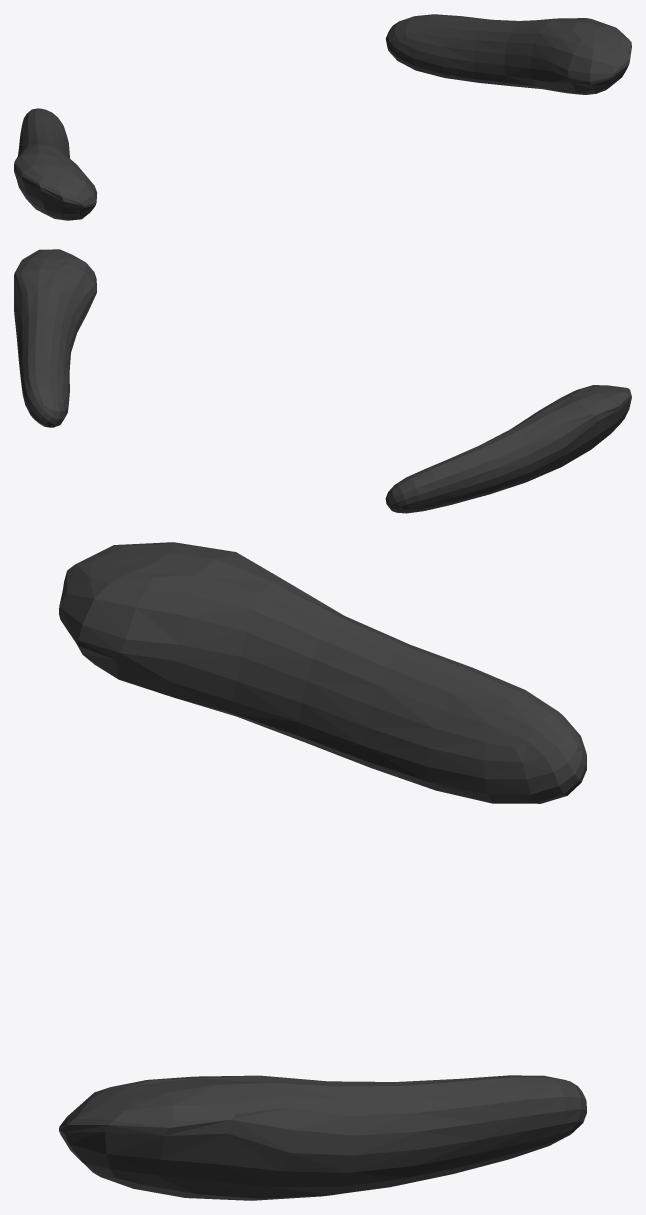
File: L_mand_canine_LO.glb
3 views of the same model, one above another, from view 1: azimuth 30°, elevation 25°; view 2: azimuth 150°, elevation 25°; view 3: azimuth 270°, elevation 25° (orthographic). The views are drawn at different scales.
Parts seen in each view (by area): view 1: L_mand_canine_LO; view 2: L_mand_canine_LO; view 3: L_mand_canine_LO.
Part boxes in pixels (left/top/right/bottom): L_mand_canine_LO: left=14, top=14, right=631, bottom=220; L_mand_canine_LO: left=14, top=249, right=631, bottom=513; L_mand_canine_LO: left=59, top=542, right=586, bottom=1200.
Bounding box in the file's own units: 0.000863 × 0.000109 × 0.000331.
1 material, 1 textured.
